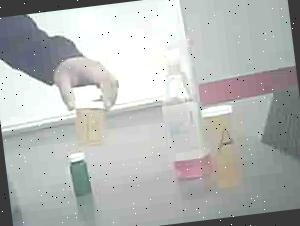Bottle A: (199, 98, 255, 194)
Bottle B: (58, 89, 124, 150)
Bottle C: (64, 148, 99, 202)
hazard: (144, 28, 212, 197)
